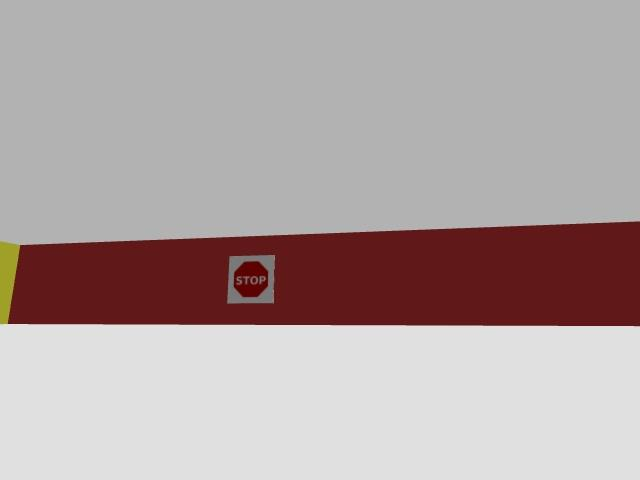stop: (228, 255, 274, 303)
